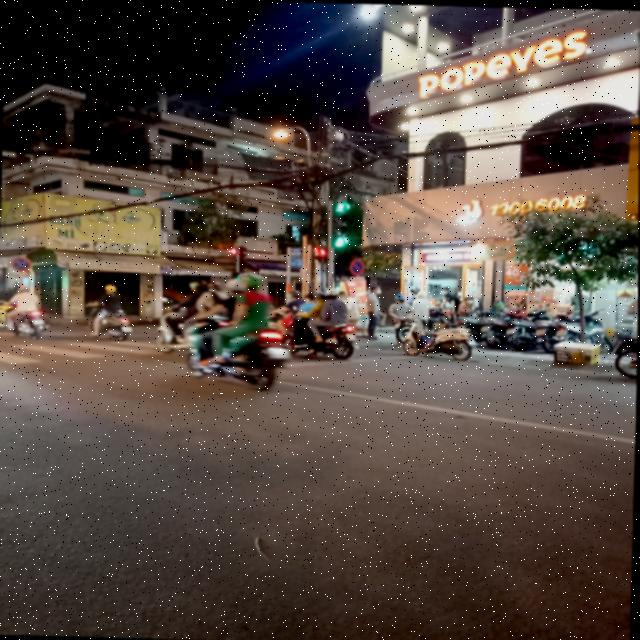Green: (330, 220, 358, 256)
